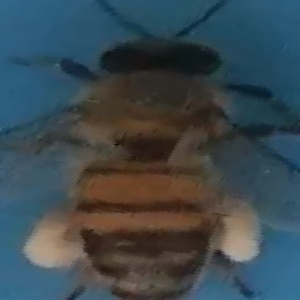bee: (8, 22, 287, 300)
